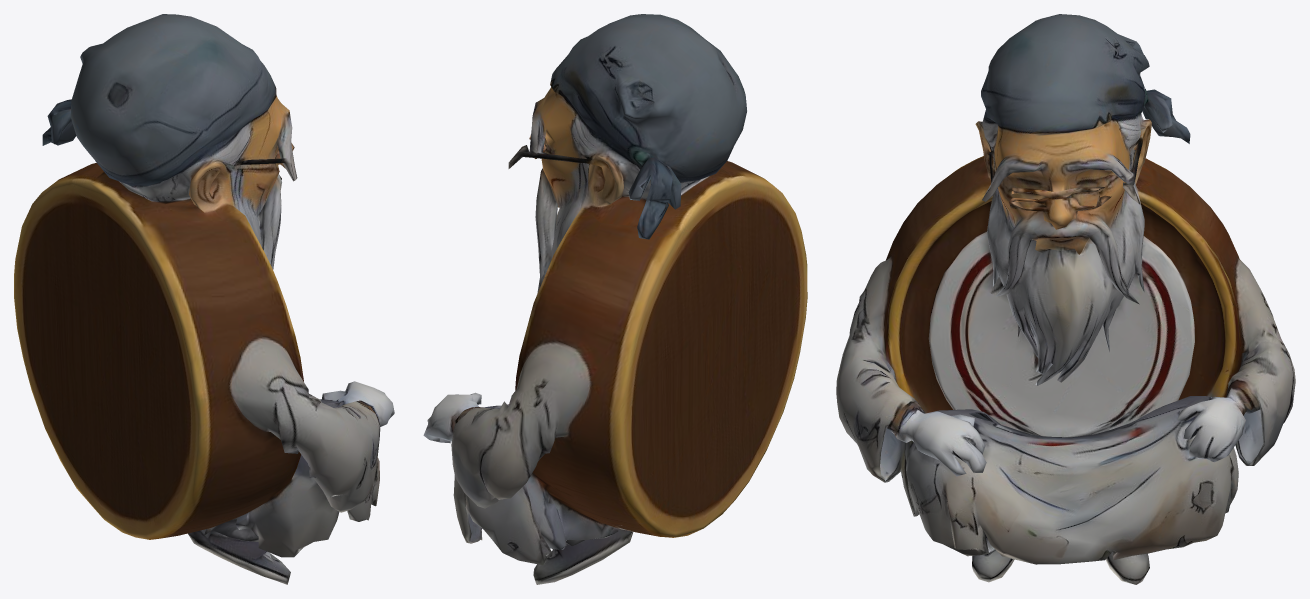
Rendered from c_classic.glb.
3 views of the same model, side by side, from view 1: azimuth 30°, elevation 25°; view 2: azimuth 150°, elevation 25°; view 3: azimuth 270°, elevation 25° (orthographic). The views are drawn at different scales.
Parts seen in each view (by area): view 1: tripo_node_600bcdc4-5d63-417a-a1e0-01724b9658dc; view 2: tripo_node_600bcdc4-5d63-417a-a1e0-01724b9658dc; view 3: tripo_node_600bcdc4-5d63-417a-a1e0-01724b9658dc.
Part boxes in pixels (x1,y1,x2,y2): tripo_node_600bcdc4-5d63-417a-a1e0-01724b9658dc: (14,14,394,584); tripo_node_600bcdc4-5d63-417a-a1e0-01724b9658dc: (423,14,807,584); tripo_node_600bcdc4-5d63-417a-a1e0-01724b9658dc: (836,14,1295,584).
Bounding box in the file's own units: 0.4713 × 1 × 0.7911.
Materials: 1 (1 with a texture image).
